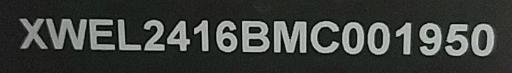letter: (272, 17, 308, 56), (46, 16, 86, 51), (309, 16, 341, 55), (240, 16, 270, 55), (416, 18, 446, 55), (366, 16, 392, 55), (470, 21, 498, 56), (444, 20, 470, 57), (341, 16, 365, 55), (20, 15, 46, 50), (88, 16, 114, 51), (166, 18, 192, 53), (213, 18, 239, 53), (116, 18, 142, 51), (394, 17, 416, 56), (143, 18, 167, 53), (192, 17, 214, 52)
